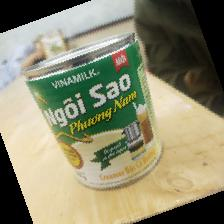NSPN_Lon: (19, 30, 163, 192)
